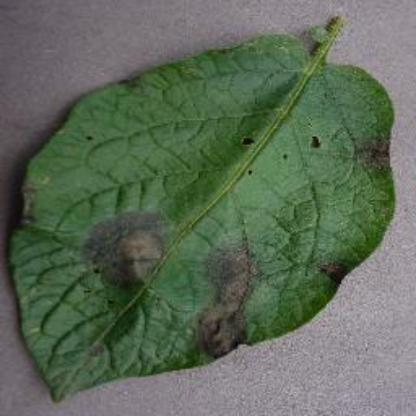Late-Blight: (7, 35, 408, 398)
